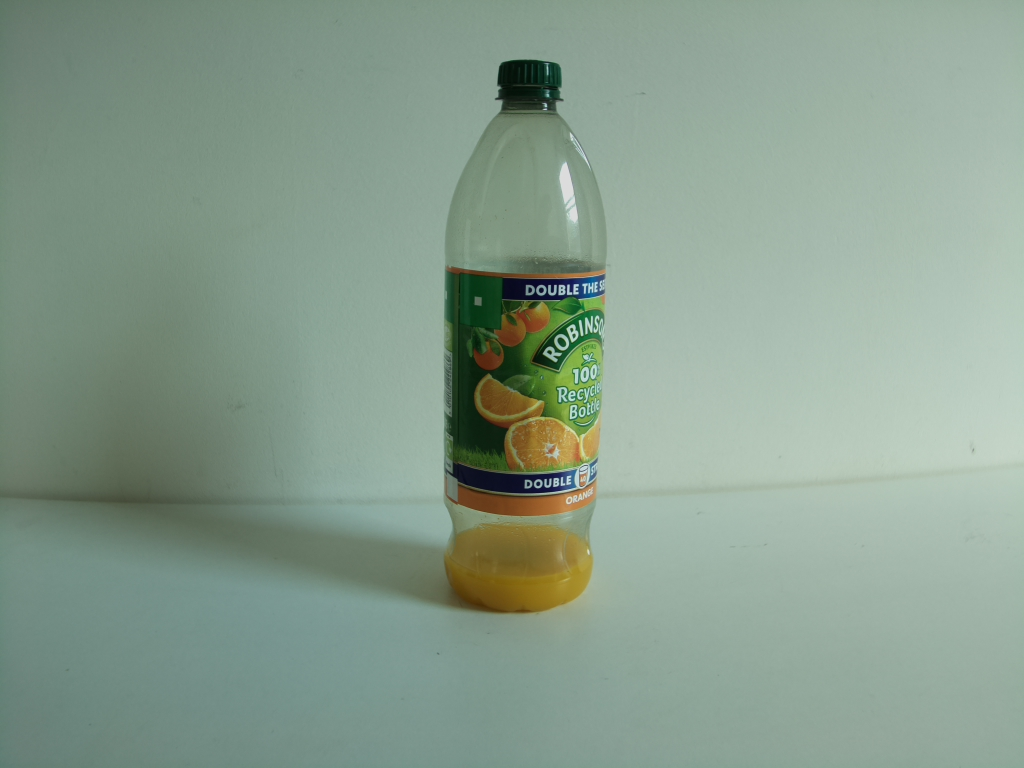juice: (438, 59, 615, 617)
